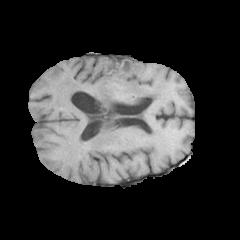glioma: (55, 60, 164, 117)
